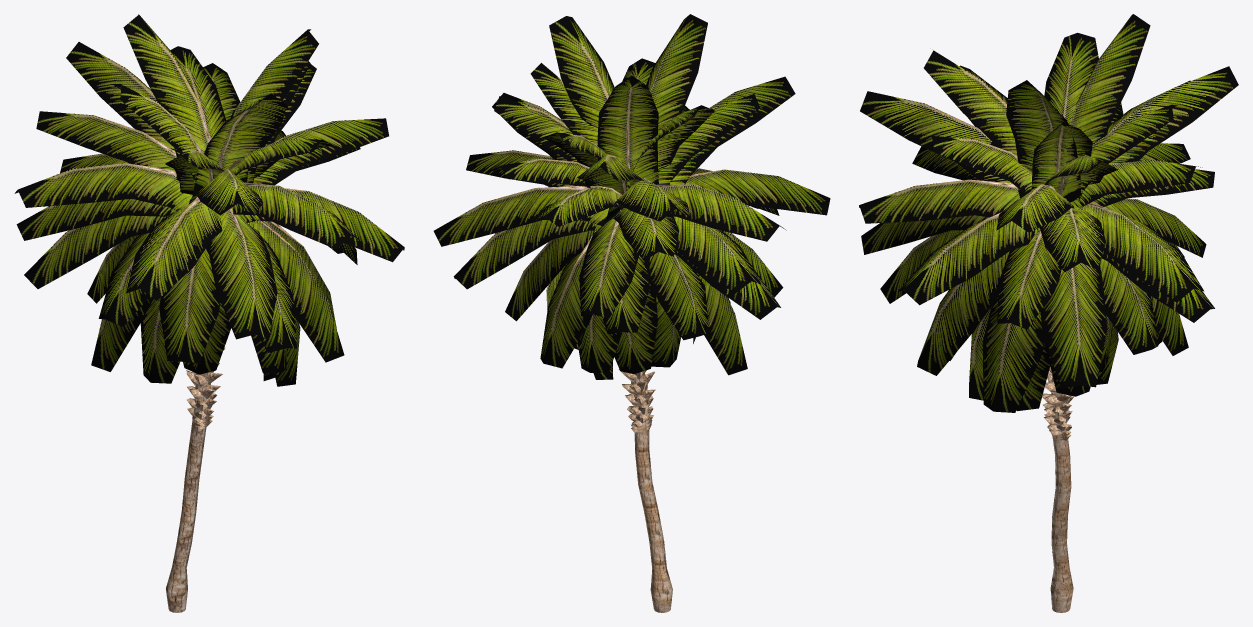
File: palm00_lq.gltf
3 views of the same model, side by side, from view 1: azimuth 30°, elevation 25°; view 2: azimuth 150°, elevation 25°; view 3: azimuth 270°, elevation 25° (orthographic). The views are drawn at different scales.
Visible parts, largest first — view 1: palm02, date_palm_leaf; view 2: palm02, date_palm_leaf; view 3: palm02, date_palm_leaf.
Boxes of the visible parts, x1,y1,x2,y2 form: palm02: (14,14,404,386); date_palm_leaf: (128,104,306,612); palm02: (433,14,830,379); date_palm_leaf: (538,124,722,612); palm02: (859,14,1238,412); date_palm_leaf: (971,111,1135,612).
Size of the model in its own units: 72.52 by 120 by 69.7.
2 materials, 2 textured.
